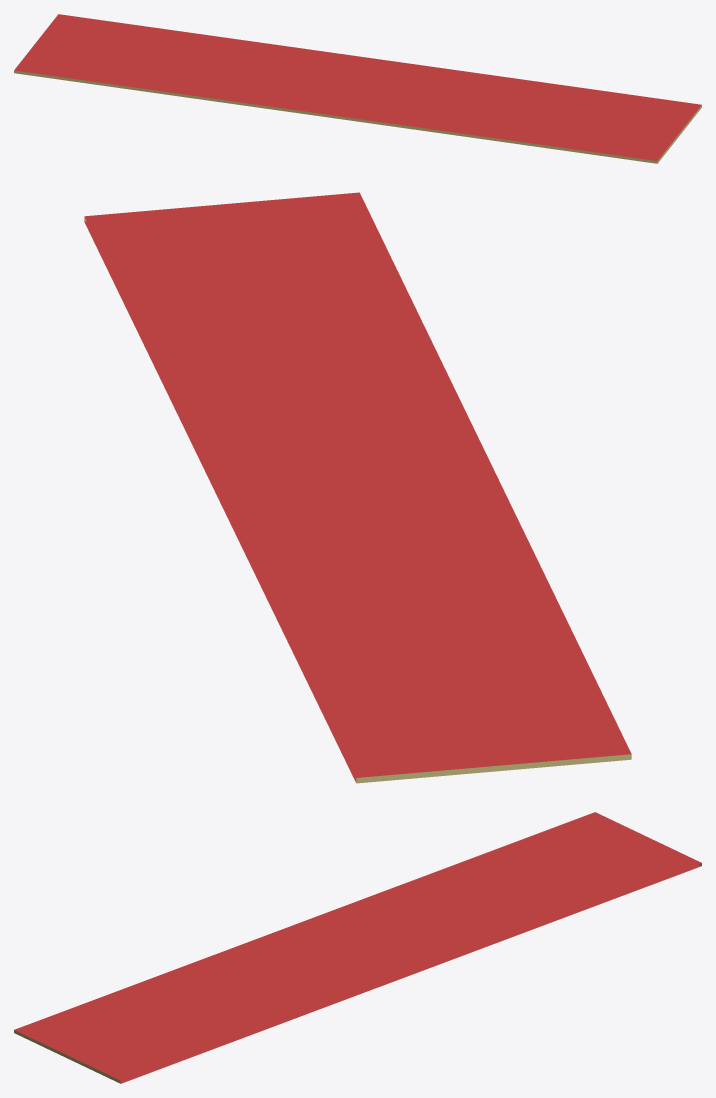
3 renders of one model, top to bottom at view 1: azimuth 30°, elevation 25°; view 2: azimuth 150°, elevation 25°; view 3: azimuth 270°, elevation 25°, orthographic. The views are drawn at different scales.
Bounding box in the file's own units: 18.28 × 19.78 × 0.1.
